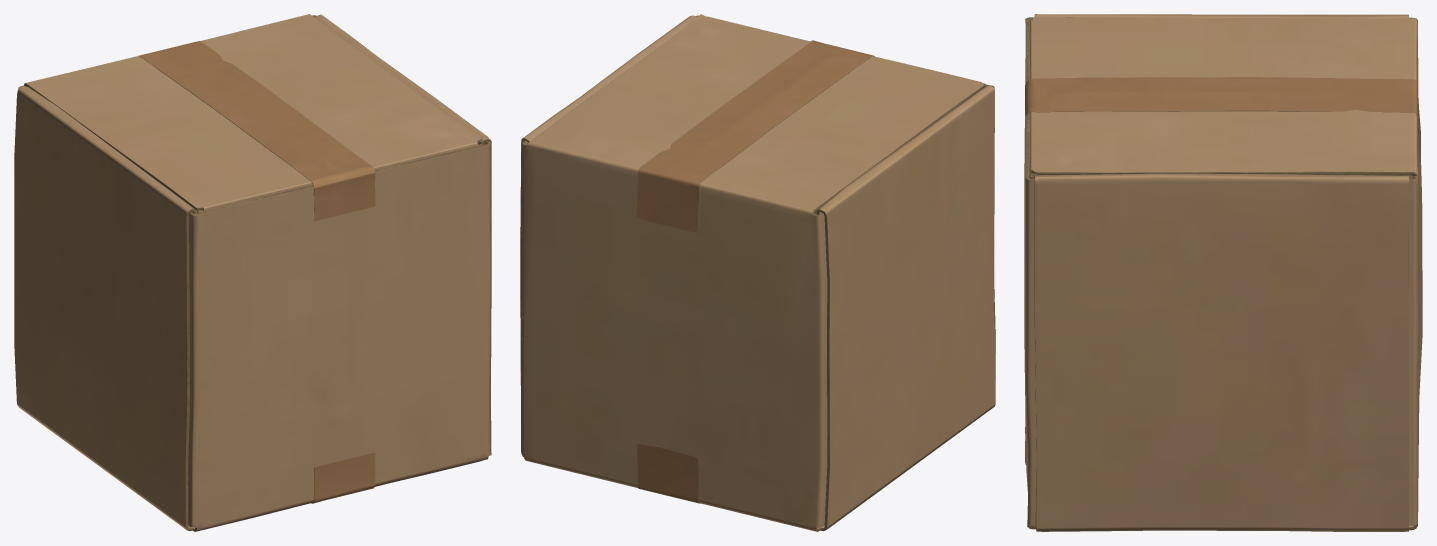
The picture shows the model from 3 angles, left to right: view 1: azimuth 30°, elevation 25°; view 2: azimuth 150°, elevation 25°; view 3: azimuth 270°, elevation 25°; orthographic projection. The views are drawn at different scales.
Visible parts, largest first — view 1: box_cube_mesh; view 2: box_cube_mesh; view 3: box_cube_mesh.
Boxes of the visible parts, x1,y1,x2,y2 form: box_cube_mesh: (14,14,491,531); box_cube_mesh: (520,14,995,531); box_cube_mesh: (1024,14,1422,531).
Size of the model in its own units: 0.1057 by 0.1053 by 0.1052.
3 materials, 3 textured.
